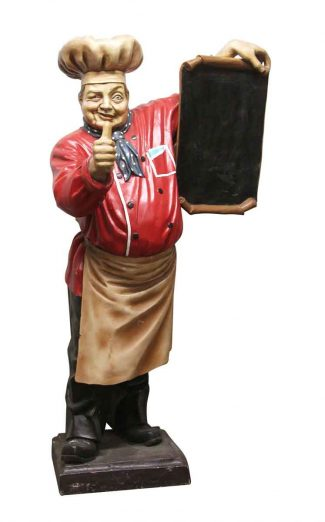person-like: (43, 29, 275, 467)
